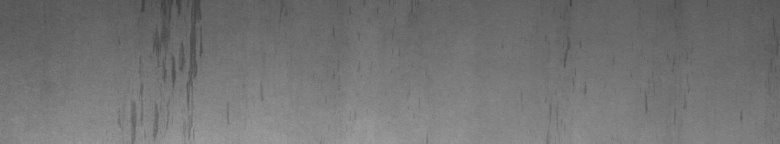ka: (128, 4, 204, 136)
